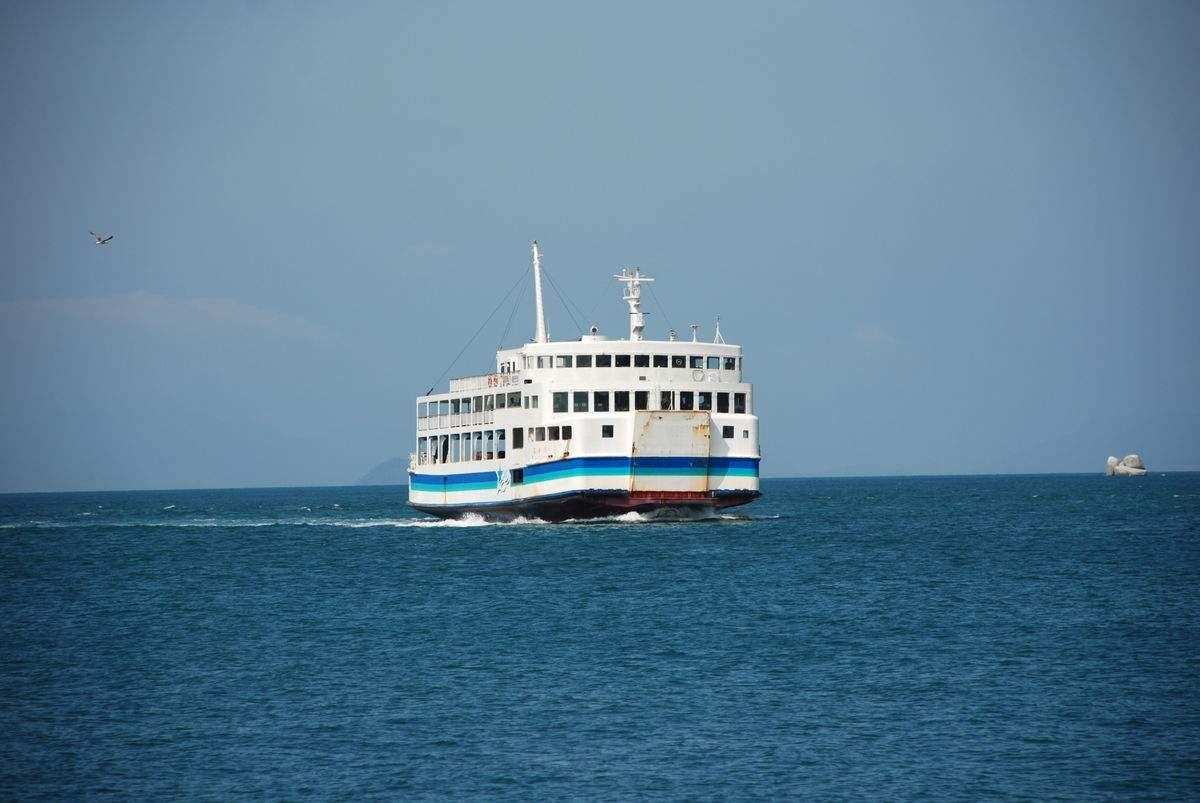bird: (89, 221, 121, 262)
youlun: (398, 240, 757, 517)
